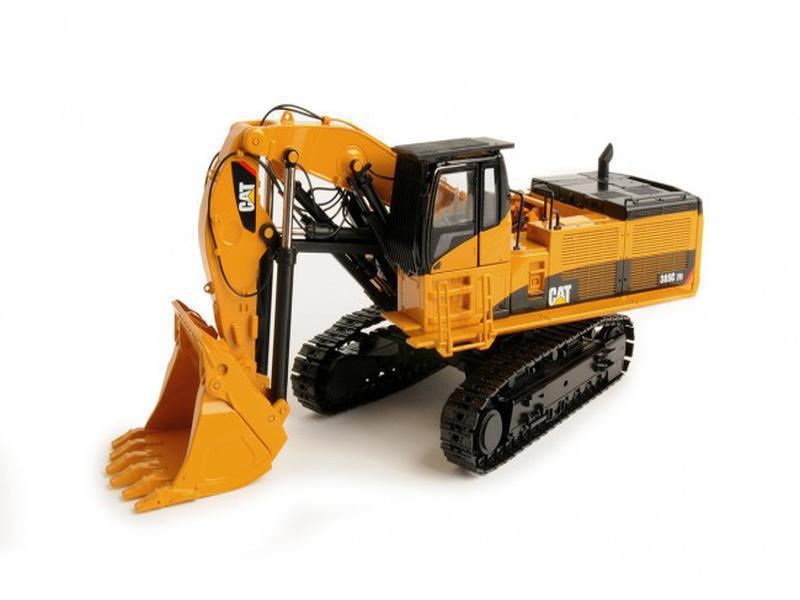shovel: (100, 95, 711, 518)
